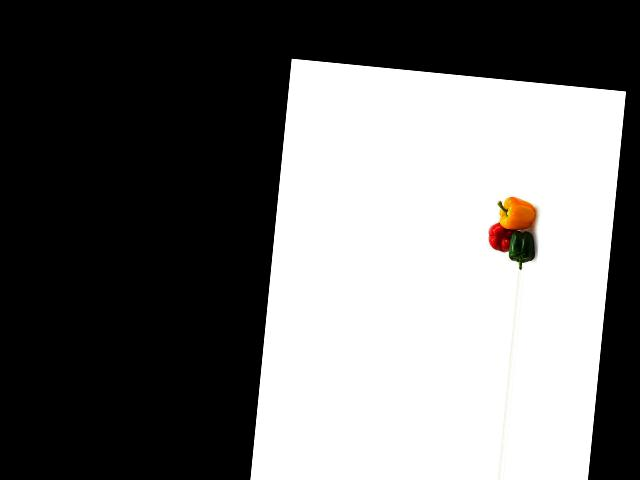bell_pepper: (503, 222, 537, 267)
